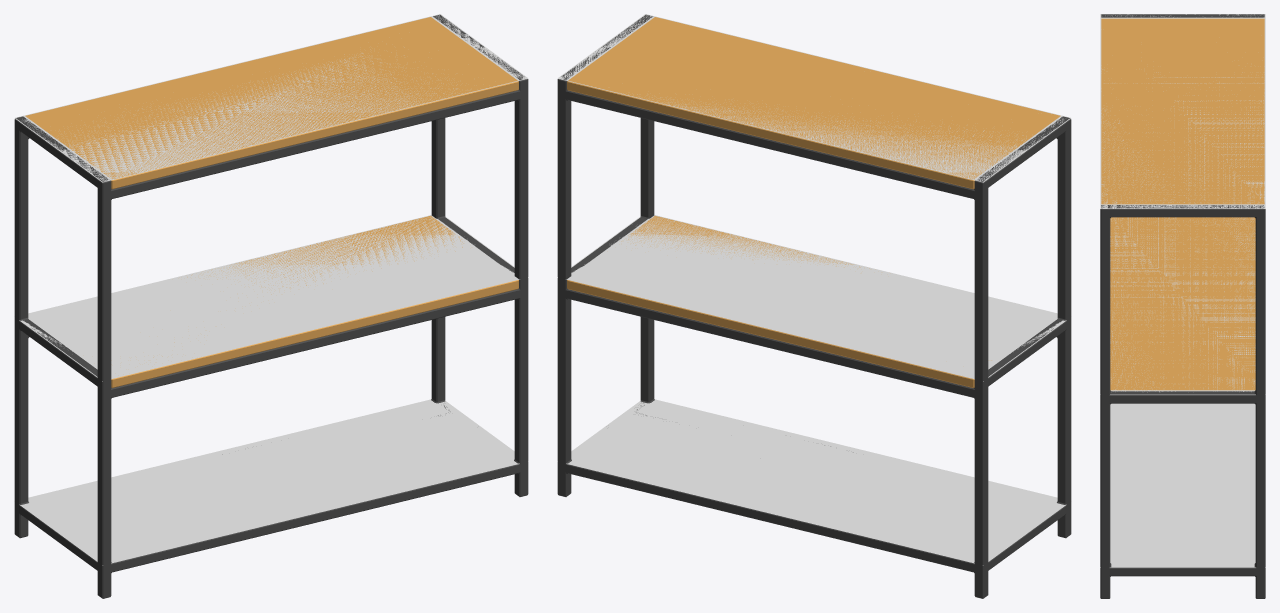
File: iron-wood-shelf-h.glb
3 renders of one model, left to right at view 1: azimuth 30°, elevation 25°; view 2: azimuth 150°, elevation 25°; view 3: azimuth 270°, elevation 25°, orthographic. The views are drawn at different scales.
Visible parts, largest first — view 1: Board.005, Frame.001, __TOP__Plane.007, __TOP__Plane.005, __TOP__Plane.006, Board.001; view 2: Board.005, Frame.001, __TOP__Plane.007, __TOP__Plane.005, __TOP__Plane.006, Board.001; view 3: Board.005, Board.001, __TOP__Plane.007, Frame.001, __TOP__Plane.005, __TOP__Plane.006.
Part boxes in pixels (<box>): Board.005: <box>25,17,518,189</box>; Frame.001: <box>14,14,528,598</box>; __TOP__Plane.007: <box>19,399,528,565</box>; __TOP__Plane.005: <box>19,215,528,381</box>; __TOP__Plane.006: <box>14,14,528,182</box>; Board.001: <box>111,215,518,387</box>; Board.005: <box>567,17,1060,189</box>; Frame.001: <box>557,14,1071,598</box>; __TOP__Plane.007: <box>557,399,1066,565</box>; __TOP__Plane.005: <box>557,215,1066,381</box>; __TOP__Plane.006: <box>557,14,1071,182</box>; Board.001: <box>567,215,991,387</box>; Board.005: <box>1101,18,1264,204</box>; Board.001: <box>1110,217,1255,390</box>; __TOP__Plane.007: <box>1100,403,1265,567</box>; Frame.001: <box>1100,14,1265,598</box>; __TOP__Plane.005: <box>1110,217,1255,394</box>; __TOP__Plane.006: <box>1100,14,1265,208</box>.
Size of the model in its own units: 0.92 by 0.86 by 0.33.
